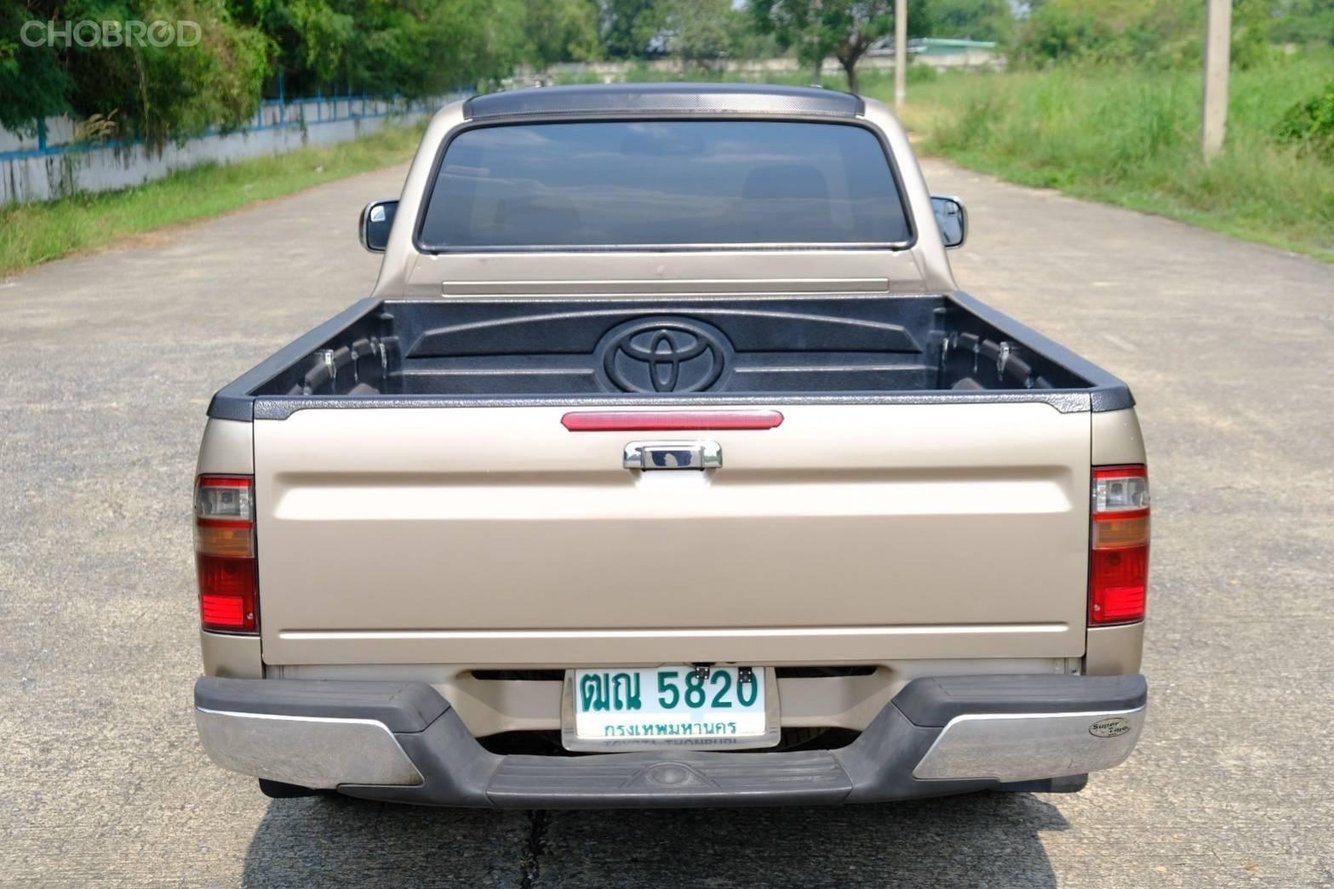license-plate: (545, 650, 792, 767)
